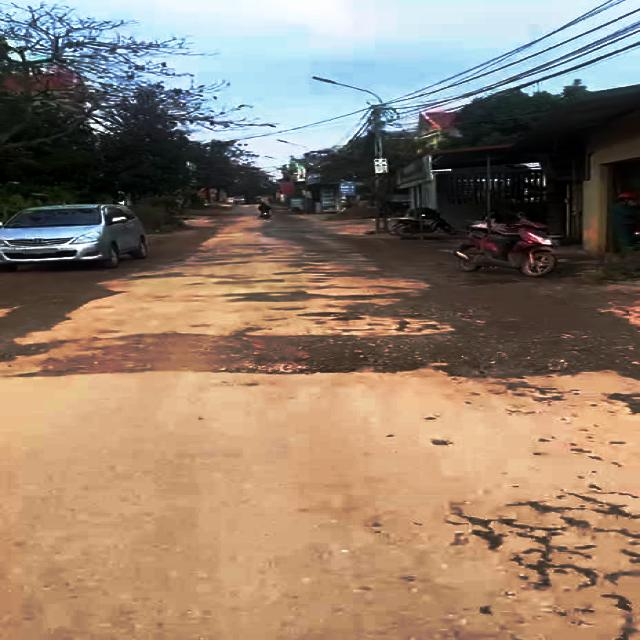pothole: (156, 332, 415, 376), (0, 339, 141, 377), (436, 354, 547, 380), (371, 302, 468, 322), (305, 310, 363, 322)
